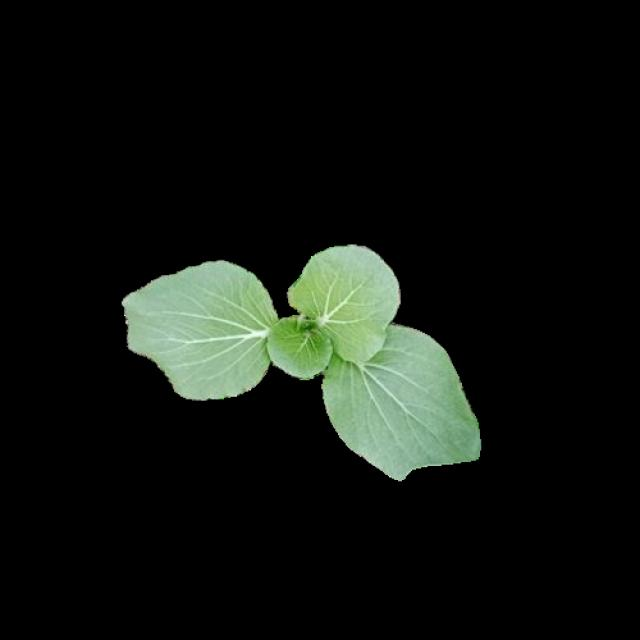healthy: (120, 241, 479, 476)
not-mature: (123, 243, 481, 479)
